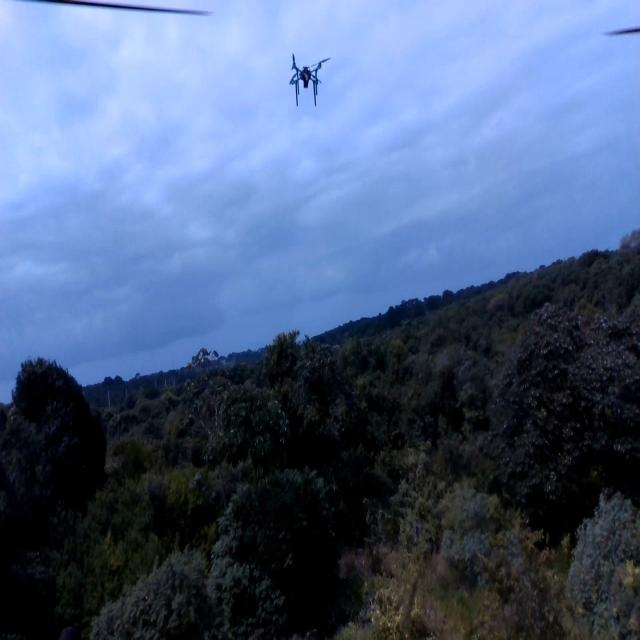-uav-: (282, 46, 334, 114)
